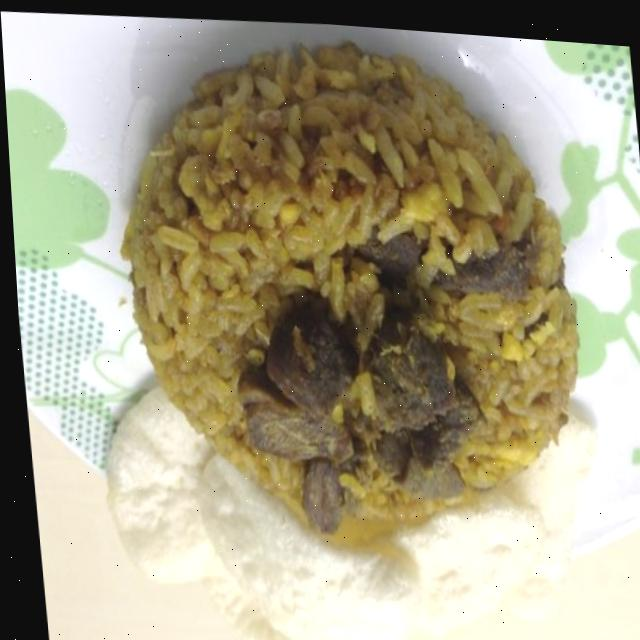米饭主食: (46, 6, 598, 592)
